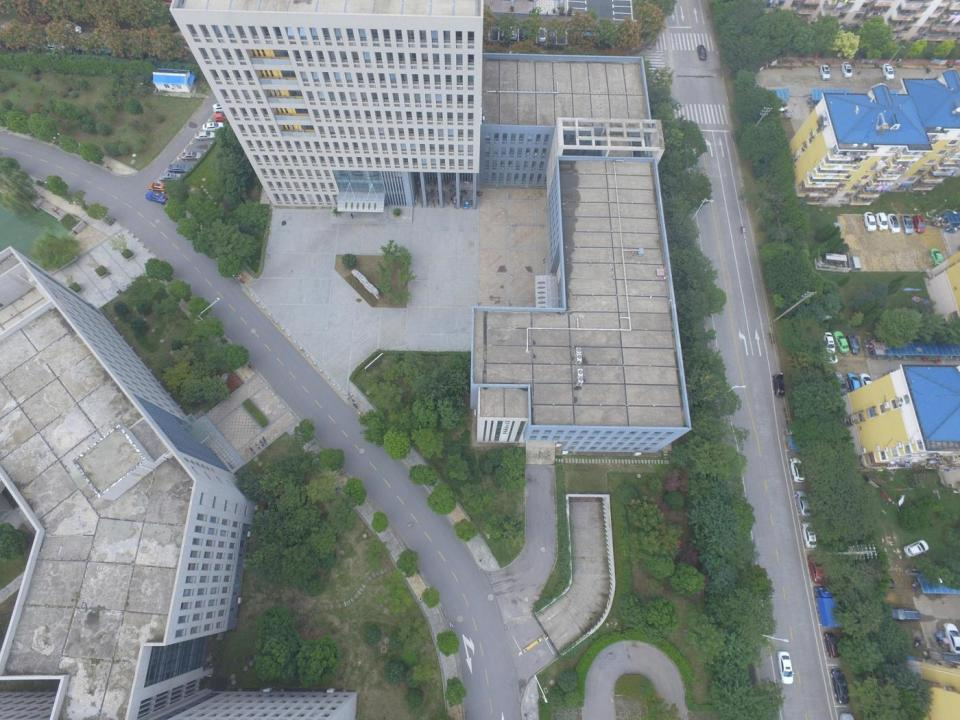car: (830, 668, 850, 705), (776, 651, 794, 684), (943, 622, 960, 654), (808, 554, 826, 584), (903, 539, 929, 558), (823, 631, 841, 658), (801, 520, 817, 548), (795, 490, 812, 516), (890, 607, 921, 621), (832, 330, 850, 354), (789, 457, 805, 483), (858, 373, 876, 392), (145, 191, 169, 205), (772, 372, 785, 397), (822, 331, 836, 354), (899, 214, 914, 235), (834, 371, 847, 395), (846, 333, 860, 355), (863, 211, 877, 233), (886, 213, 900, 235), (928, 248, 945, 266), (60, 21, 83, 34), (880, 63, 896, 81), (912, 214, 926, 234), (193, 130, 216, 142), (848, 373, 861, 394), (875, 212, 889, 231), (96, 41, 116, 54), (148, 182, 169, 193), (201, 121, 224, 131), (819, 353, 838, 365), (168, 164, 192, 173), (71, 40, 87, 53), (841, 61, 853, 78), (46, 41, 64, 52), (180, 152, 202, 161), (160, 173, 182, 182), (696, 44, 707, 61), (211, 102, 229, 112), (820, 64, 831, 80), (214, 112, 230, 122), (538, 26, 546, 43), (520, 26, 528, 42), (510, 25, 517, 40), (501, 25, 508, 39), (548, 29, 555, 42)
truck: (814, 586, 845, 628), (784, 426, 801, 450)
van: (850, 255, 862, 271)
